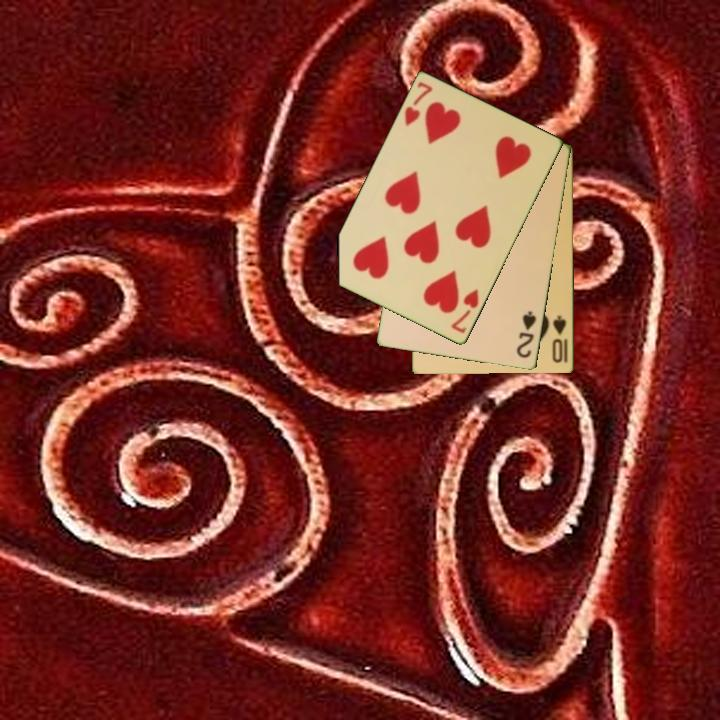10s: (549, 313, 569, 366)
2s: (513, 308, 539, 361)
7h: (401, 78, 435, 130), (448, 286, 482, 337)
